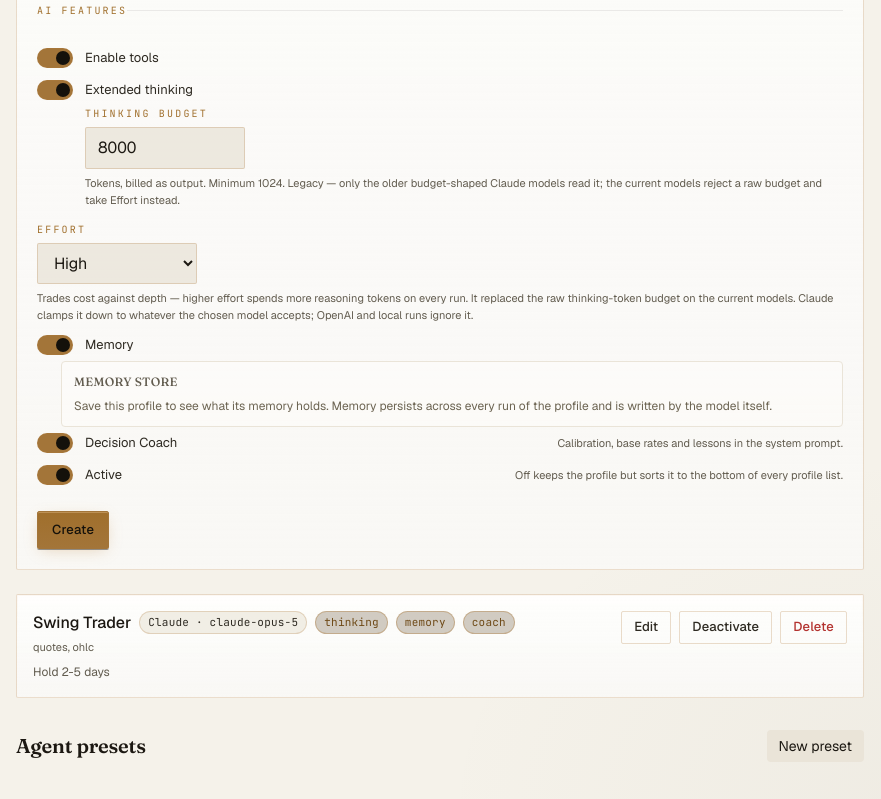
Test case: ProfilesPage – AI features fieldset › populates the capability controls from the edited profile
The width and height of the screenshot is (881, 799).
(page scrolled)
What coordinates should you click on to do the following:
click the button "Edit"
I would click on:
 (646, 627)
Its box is [621,610,671,644].
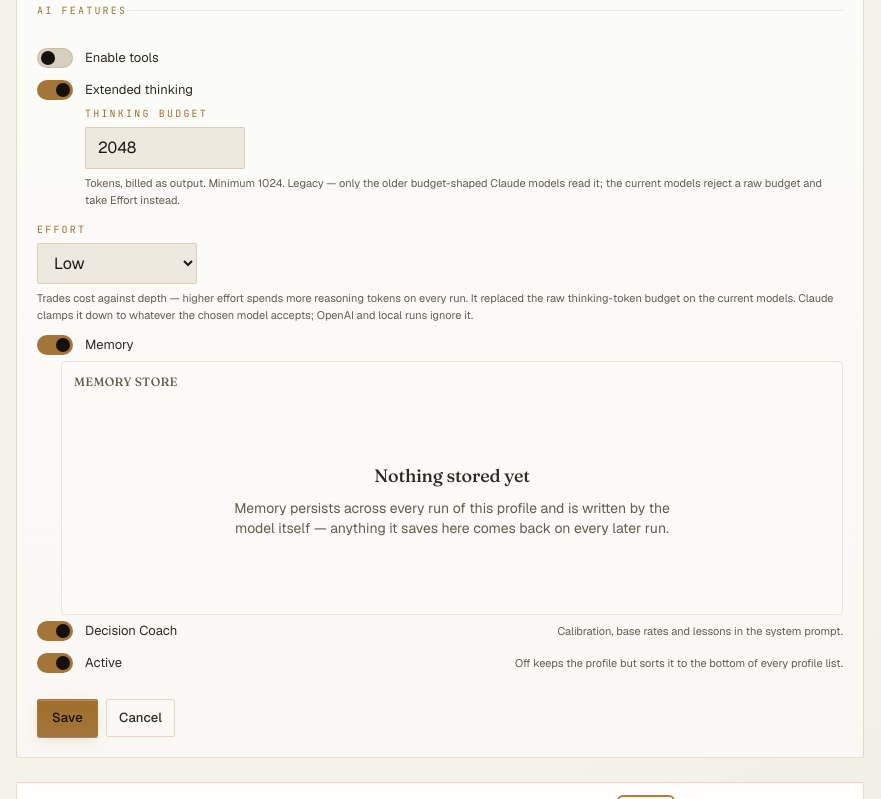
Check: the switch named "Enable tools" is not checked, box [37,48,73,68]
Check: the dropdown labelled "Effort" shows "Low", box [37,243,197,284]
Check: the field labelled "Thinking budget" holds "2048", box [85,127,245,169]
